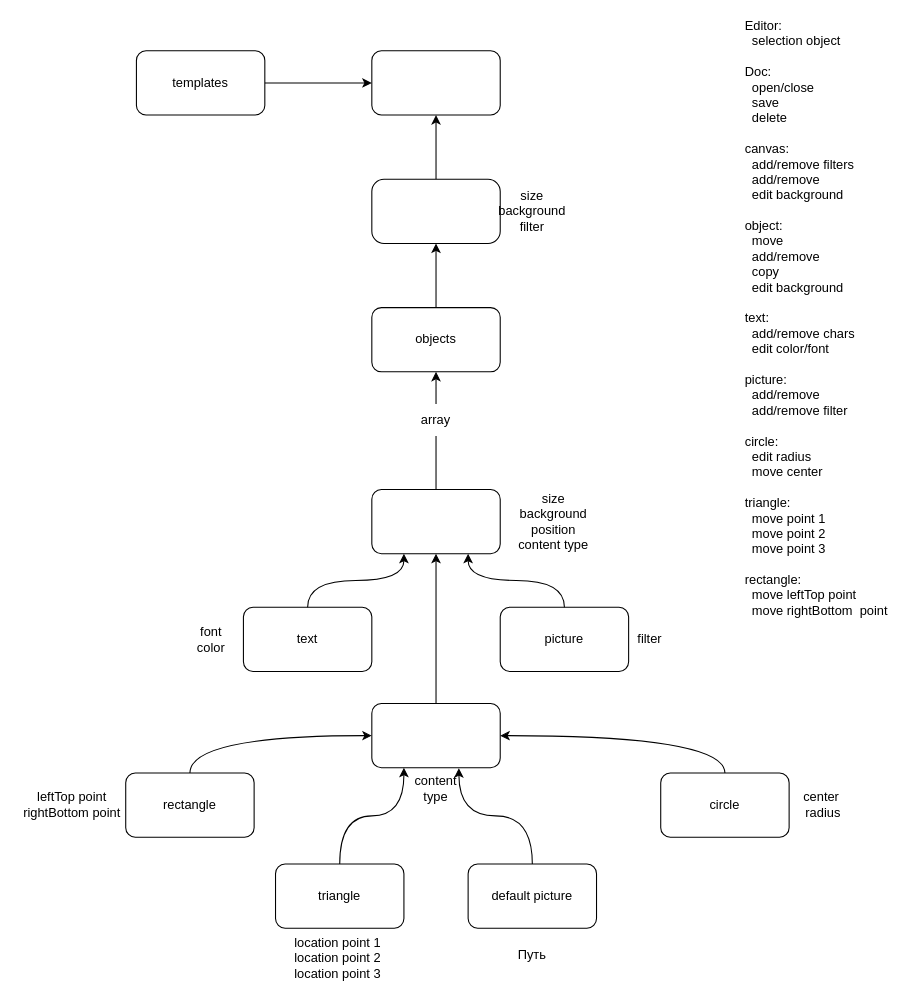
This 924x1005 diagram has some shape labels left out. The box of each missing label's shape, as (x1, y1, x2, y2) in pixels:
art object: (371, 702, 500, 768)
canvas: (371, 178, 500, 243)
Editor: (371, 50, 500, 115)
object: (371, 488, 500, 554)
